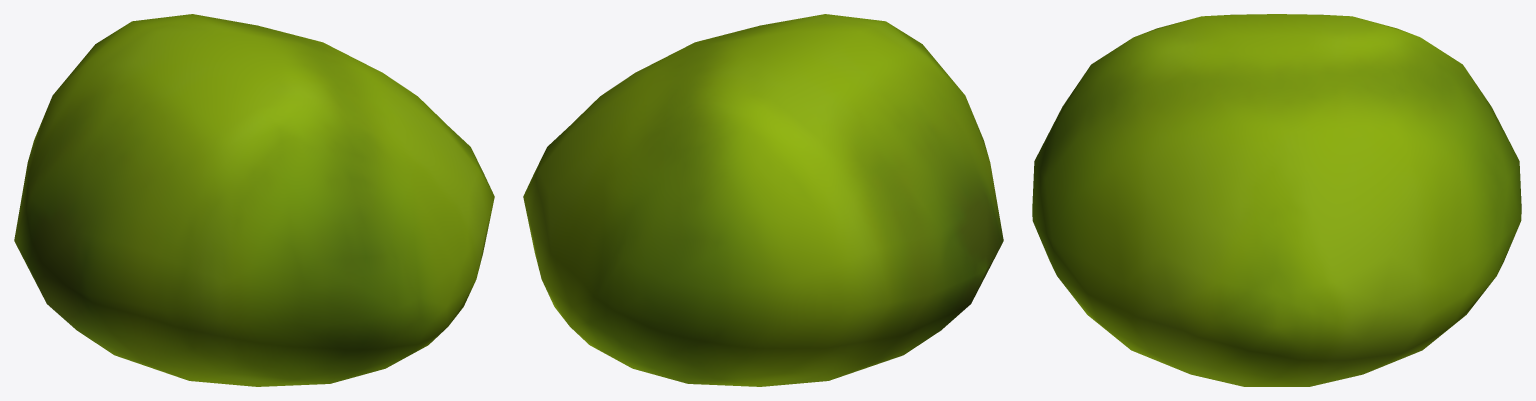
The model's file is canoni2.obj.
3 views of the same model, side by side, from view 1: azimuth 30°, elevation 25°; view 2: azimuth 150°, elevation 25°; view 3: azimuth 270°, elevation 25° (orthographic). The views are drawn at different scales.
Parts seen in each view (by area): view 1: ColobotMesh_1_ColobotMesh_; view 2: ColobotMesh_1_ColobotMesh_; view 3: ColobotMesh_1_ColobotMesh_.
Part boxes in pixels (left/top/right/bottom): ColobotMesh_1_ColobotMesh_: left=14, top=14, right=494, bottom=386; ColobotMesh_1_ColobotMesh_: left=523, top=14, right=1003, bottom=386; ColobotMesh_1_ColobotMesh_: left=1032, top=14, right=1521, bottom=386.
Size of the model in its own units: 3.16 by 2.14 by 3.06.
